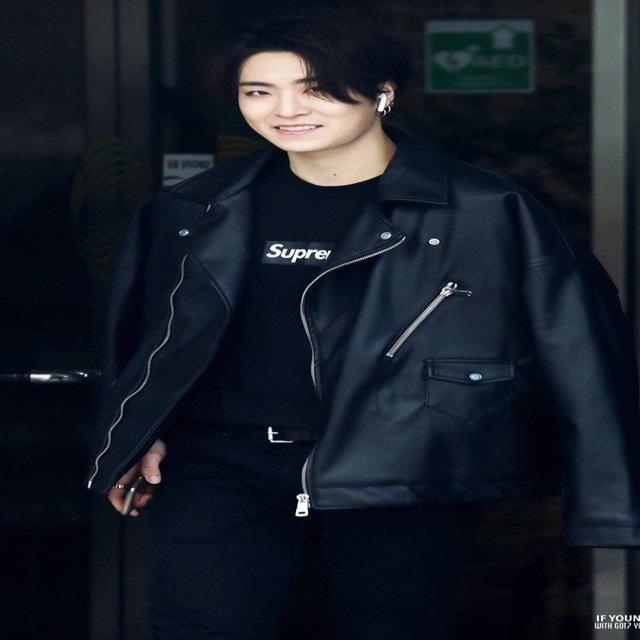earphone: (367, 83, 400, 120)
